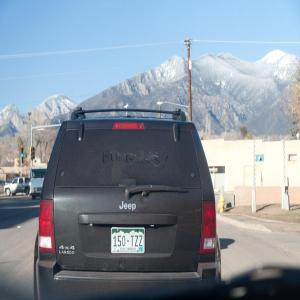Vehicle-registration-plate: (110, 228, 146, 256)
